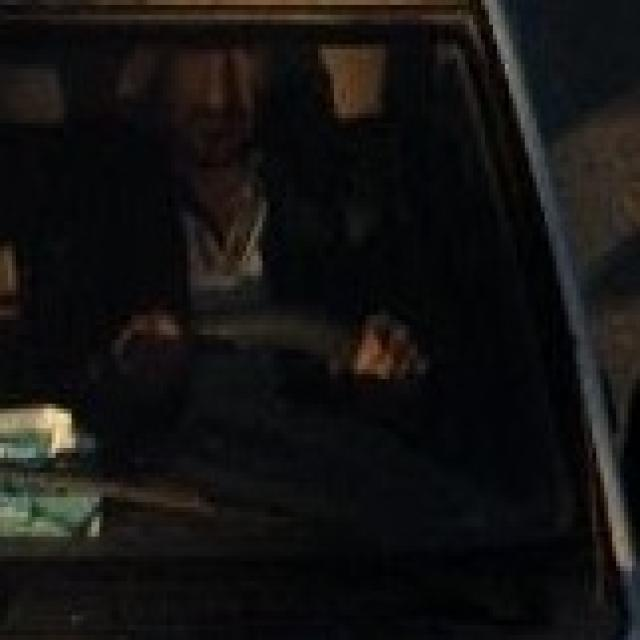No-seat-belt: (28, 11, 576, 556)
